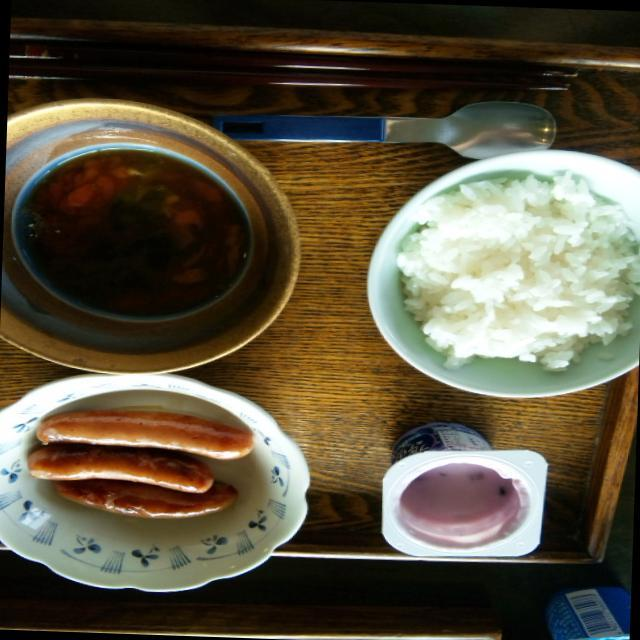Rice: (369, 144, 640, 401)
